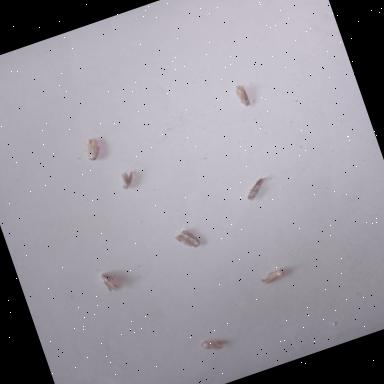pbw: (242, 174, 280, 202), (199, 331, 234, 355), (174, 226, 202, 252), (82, 135, 104, 162), (98, 269, 121, 294), (259, 265, 287, 285), (234, 82, 252, 108), (118, 169, 138, 190)
